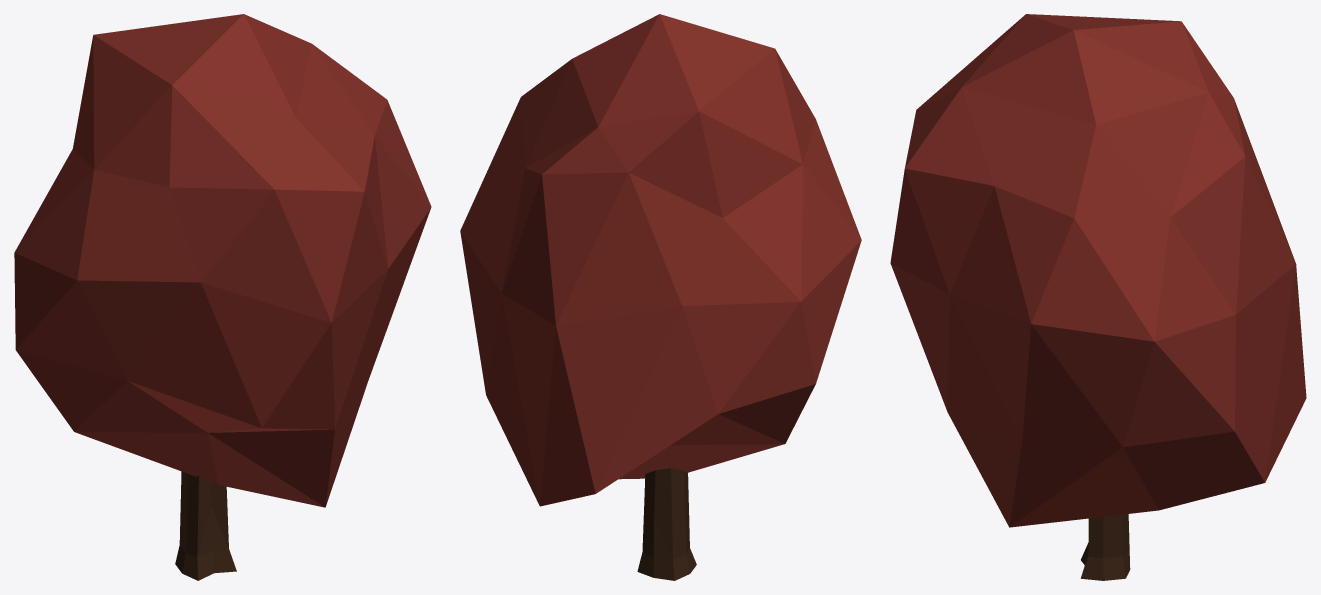
Rendered from Tree_62_Red.fbx.
The picture shows the model from 3 angles, left to right: view 1: azimuth 30°, elevation 25°; view 2: azimuth 150°, elevation 25°; view 3: azimuth 270°, elevation 25°; orthographic projection. The views are drawn at different scales.
Visible parts, largest first — view 1: Tree_62_Red_Part_1, Tree_62_Red_Part_2; view 2: Tree_62_Red_Part_1, Tree_62_Red_Part_2; view 3: Tree_62_Red_Part_1, Tree_62_Red_Part_2.
Boxes of the visible parts, x1,y1,x2,y2 form: Tree_62_Red_Part_1: (14, 14, 431, 507); Tree_62_Red_Part_2: (175, 471, 236, 580); Tree_62_Red_Part_1: (460, 14, 861, 506); Tree_62_Red_Part_2: (637, 468, 696, 580); Tree_62_Red_Part_1: (890, 14, 1306, 527); Tree_62_Red_Part_2: (1080, 514, 1130, 580).
Bounding box in the file's own units: 533 × 788 × 540.
